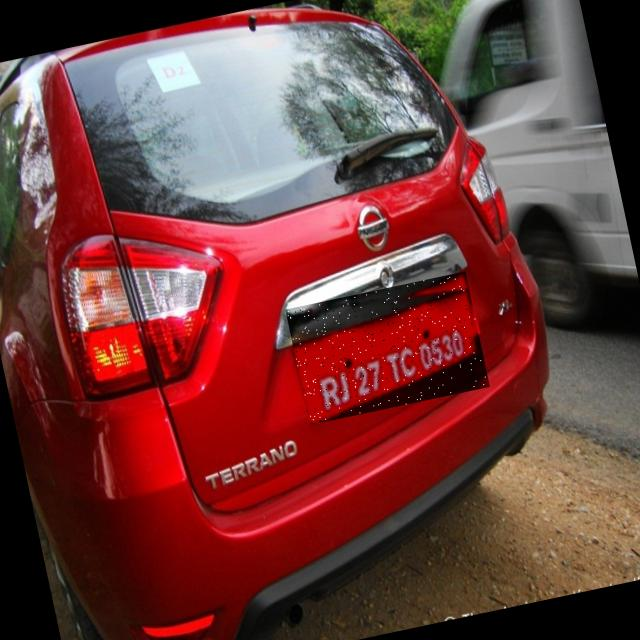Plate: (287, 272, 492, 426)
